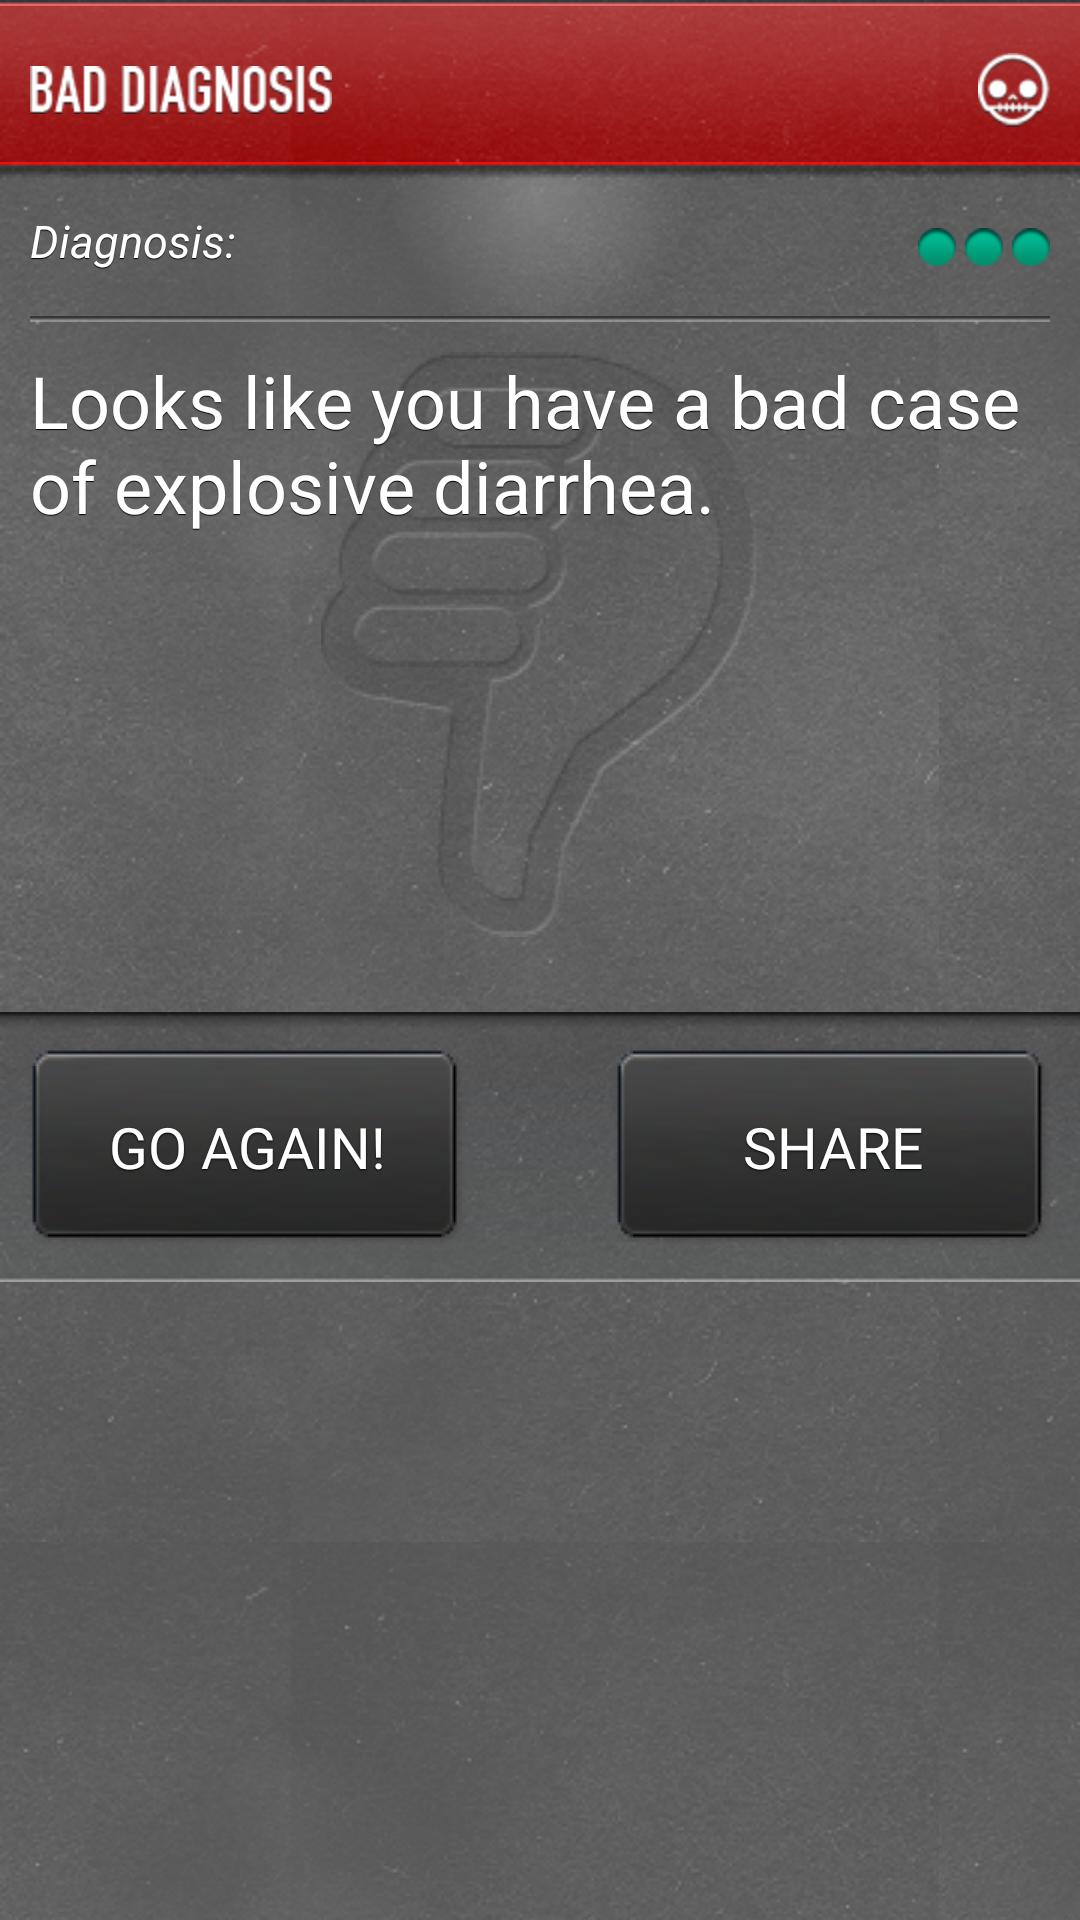

Icon click points for this 1080 × 1920 phone screenshot, format point (x, y):
skull: point (1014, 90)
